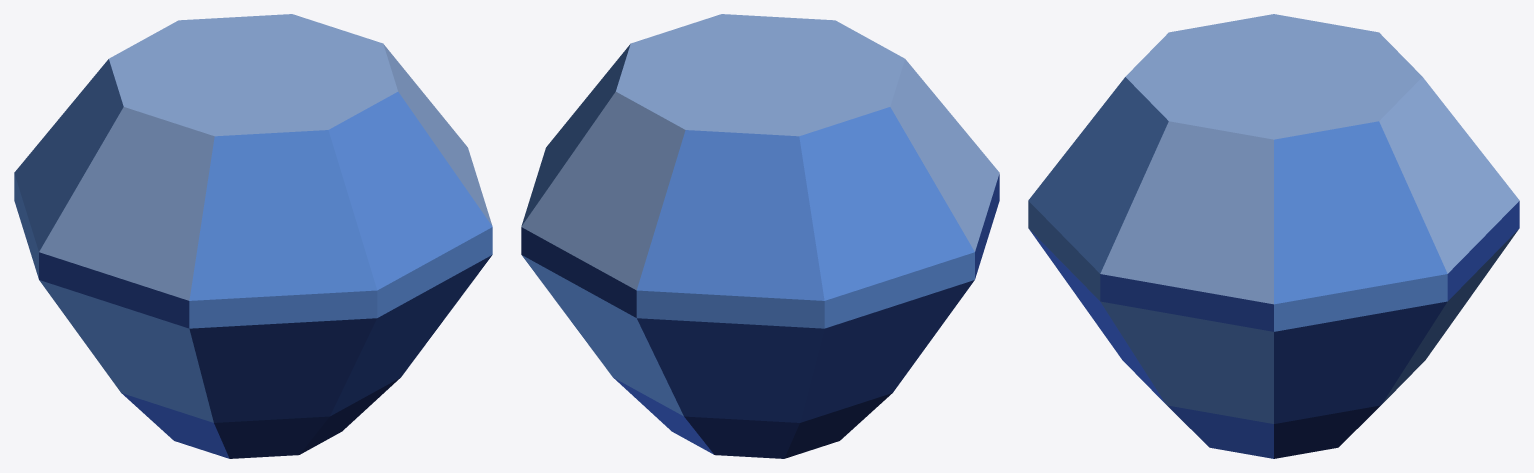
Rendered from sapphire_raw.glb.
The picture shows the model from 3 angles, left to right: view 1: azimuth 30°, elevation 25°; view 2: azimuth 150°, elevation 25°; view 3: azimuth 270°, elevation 25°; orthographic projection.
Parts seen in each view (by area): view 1: sapphire_raw; view 2: sapphire_raw; view 3: sapphire_raw.
Boxes of the visible parts, box(x1,y1,x2,y2) form: sapphire_raw: box(14, 14, 492, 458); sapphire_raw: box(521, 14, 999, 458); sapphire_raw: box(1028, 14, 1519, 458).
Size of the model in its own units: 0.81 by 0.625 by 0.81.
